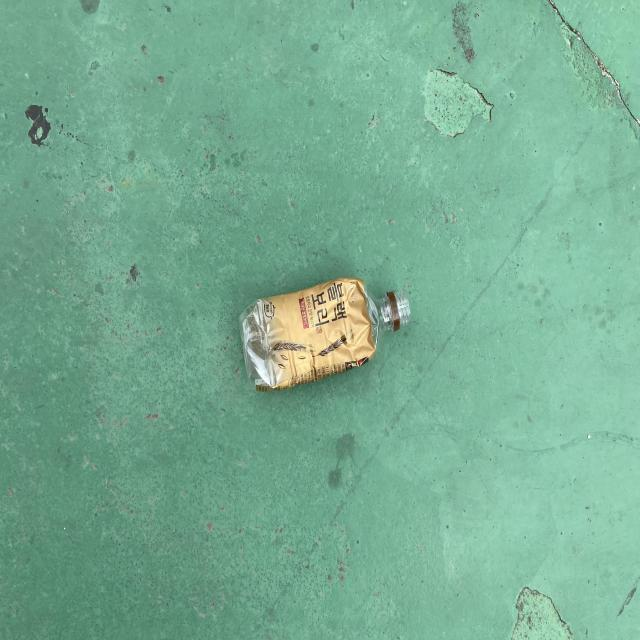plastic: (239, 277, 411, 391)
